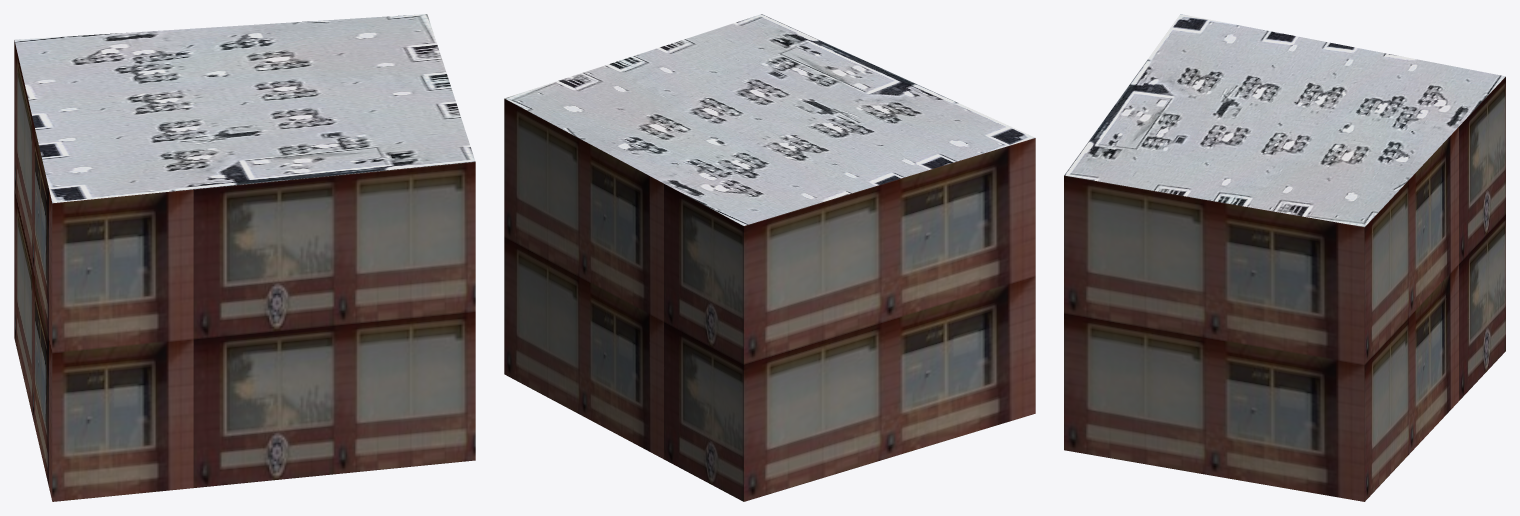
The model's file is ResTex__4072.fbx.
3 renders of one model, left to right at view 1: azimuth 30°, elevation 25°; view 2: azimuth 150°, elevation 25°; view 3: azimuth 270°, elevation 25°, orthographic. The views are drawn at different scales.
Visible parts, largest first — view 1: CityEngineMaterial_13_m, CityEngineMaterial_4_m; view 2: CityEngineMaterial_13_m, CityEngineMaterial_4_m; view 3: CityEngineMaterial_13_m, CityEngineMaterial_4_m.
Part boxes in pixels (box(x1,y1,x2,y2)): CityEngineMaterial_13_m: box(14, 40, 475, 501); CityEngineMaterial_4_m: box(14, 14, 475, 203); CityEngineMaterial_13_m: box(504, 98, 1035, 501); CityEngineMaterial_4_m: box(504, 14, 1035, 225); CityEngineMaterial_13_m: box(1064, 77, 1505, 501); CityEngineMaterial_4_m: box(1064, 14, 1505, 226).
Size of the model in its own units: 9.99 by 6 by 8.75.
Materials: 2 (2 with a texture image).
